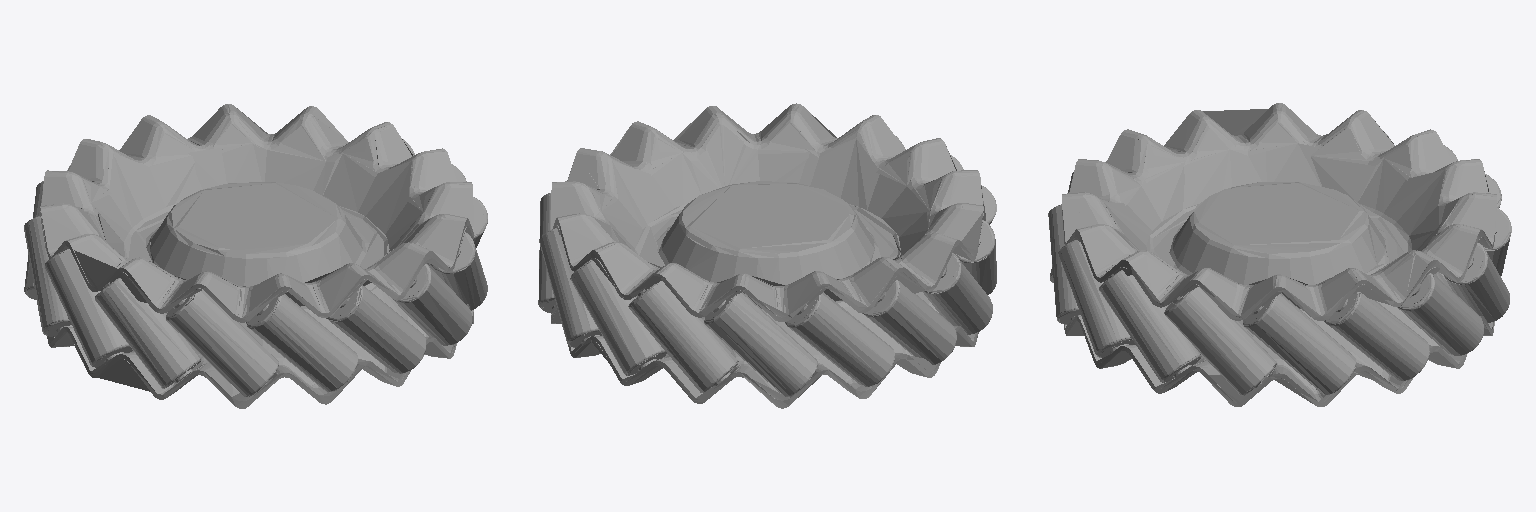
The model's file is mweel.obj.
3 views of the same model, side by side, from view 1: azimuth 30°, elevation 25°; view 2: azimuth 150°, elevation 25°; view 3: azimuth 270°, elevation 25° (orthographic).
Visible parts, largest first — view 1: mweel-black; view 2: mweel-black; view 3: mweel-black.
Boxes of the visible parts, x1,y1,x2,y2 form: mweel-black: [24, 104, 487, 408]; mweel-black: [538, 103, 996, 408]; mweel-black: [1048, 103, 1511, 406].
Bounding box in the file's own units: 152 × 45.5 × 152.